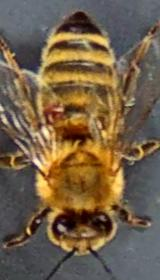varroa_mite: (38, 94, 72, 129)
